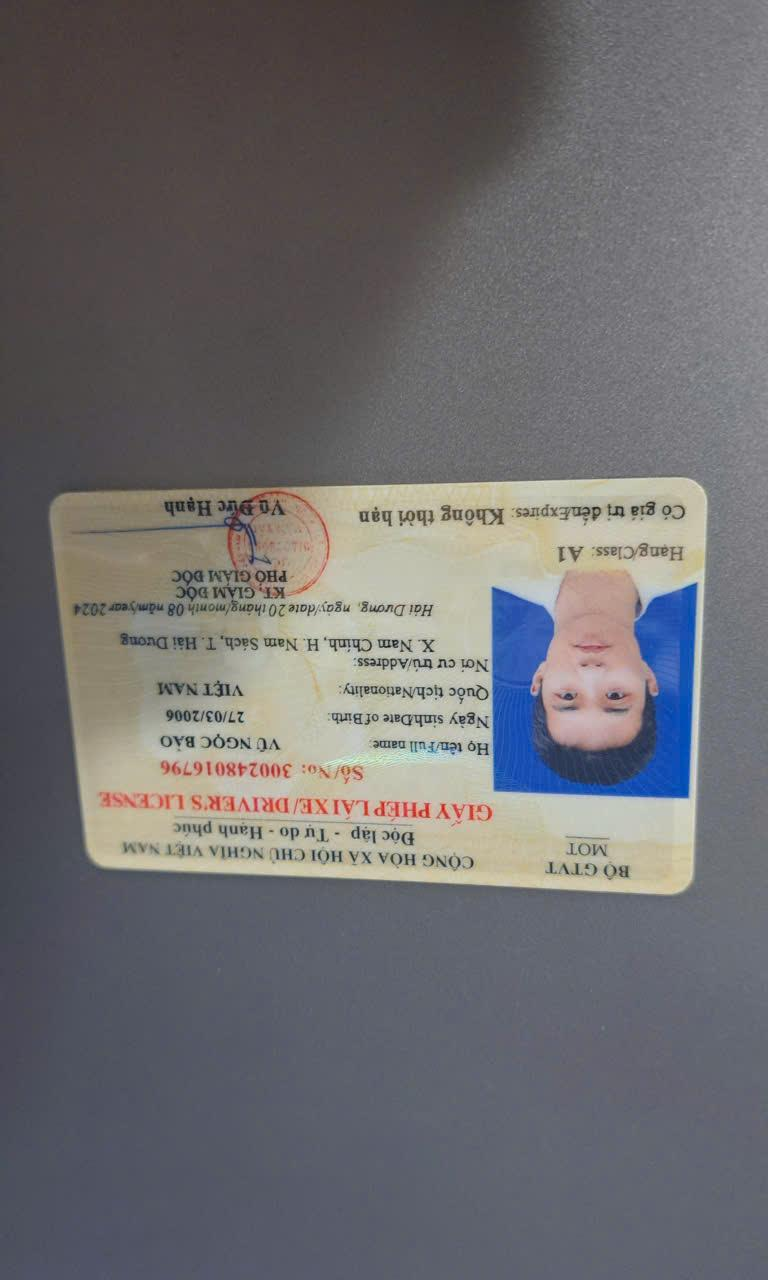gplx: (45, 473, 715, 902)
